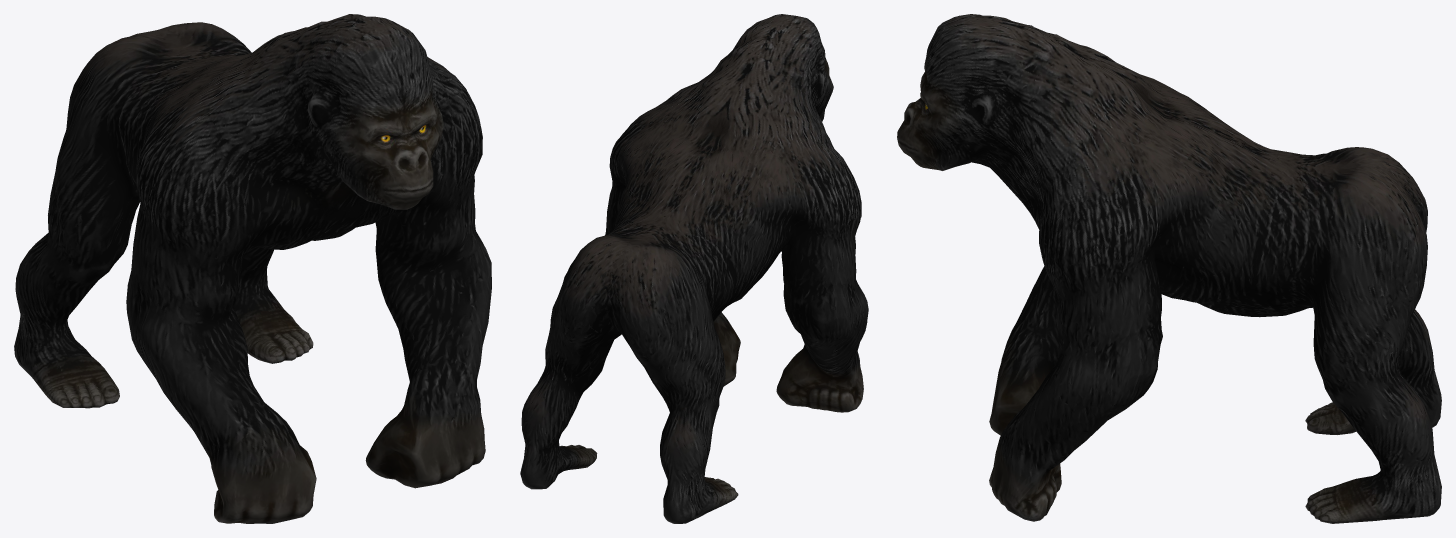
Rendered from MZ4250 - Giant Ape.glb.
3 views of the same model, side by side, from view 1: azimuth 30°, elevation 25°; view 2: azimuth 150°, elevation 25°; view 3: azimuth 270°, elevation 25° (orthographic). The views are drawn at different scales.
Parts seen in each view (by area): view 1: body_low.001; view 2: body_low.001; view 3: body_low.001.
Boxes of the visible parts, left/top/right/bottom form: body_low.001: left=14, top=14, right=491, bottom=523; body_low.001: left=520, top=14, right=868, bottom=523; body_low.001: left=897, top=14, right=1441, bottom=523.
Size of the model in its own units: 4.56 by 6.21 by 6.85.
Materials: 1 (1 with a texture image).
